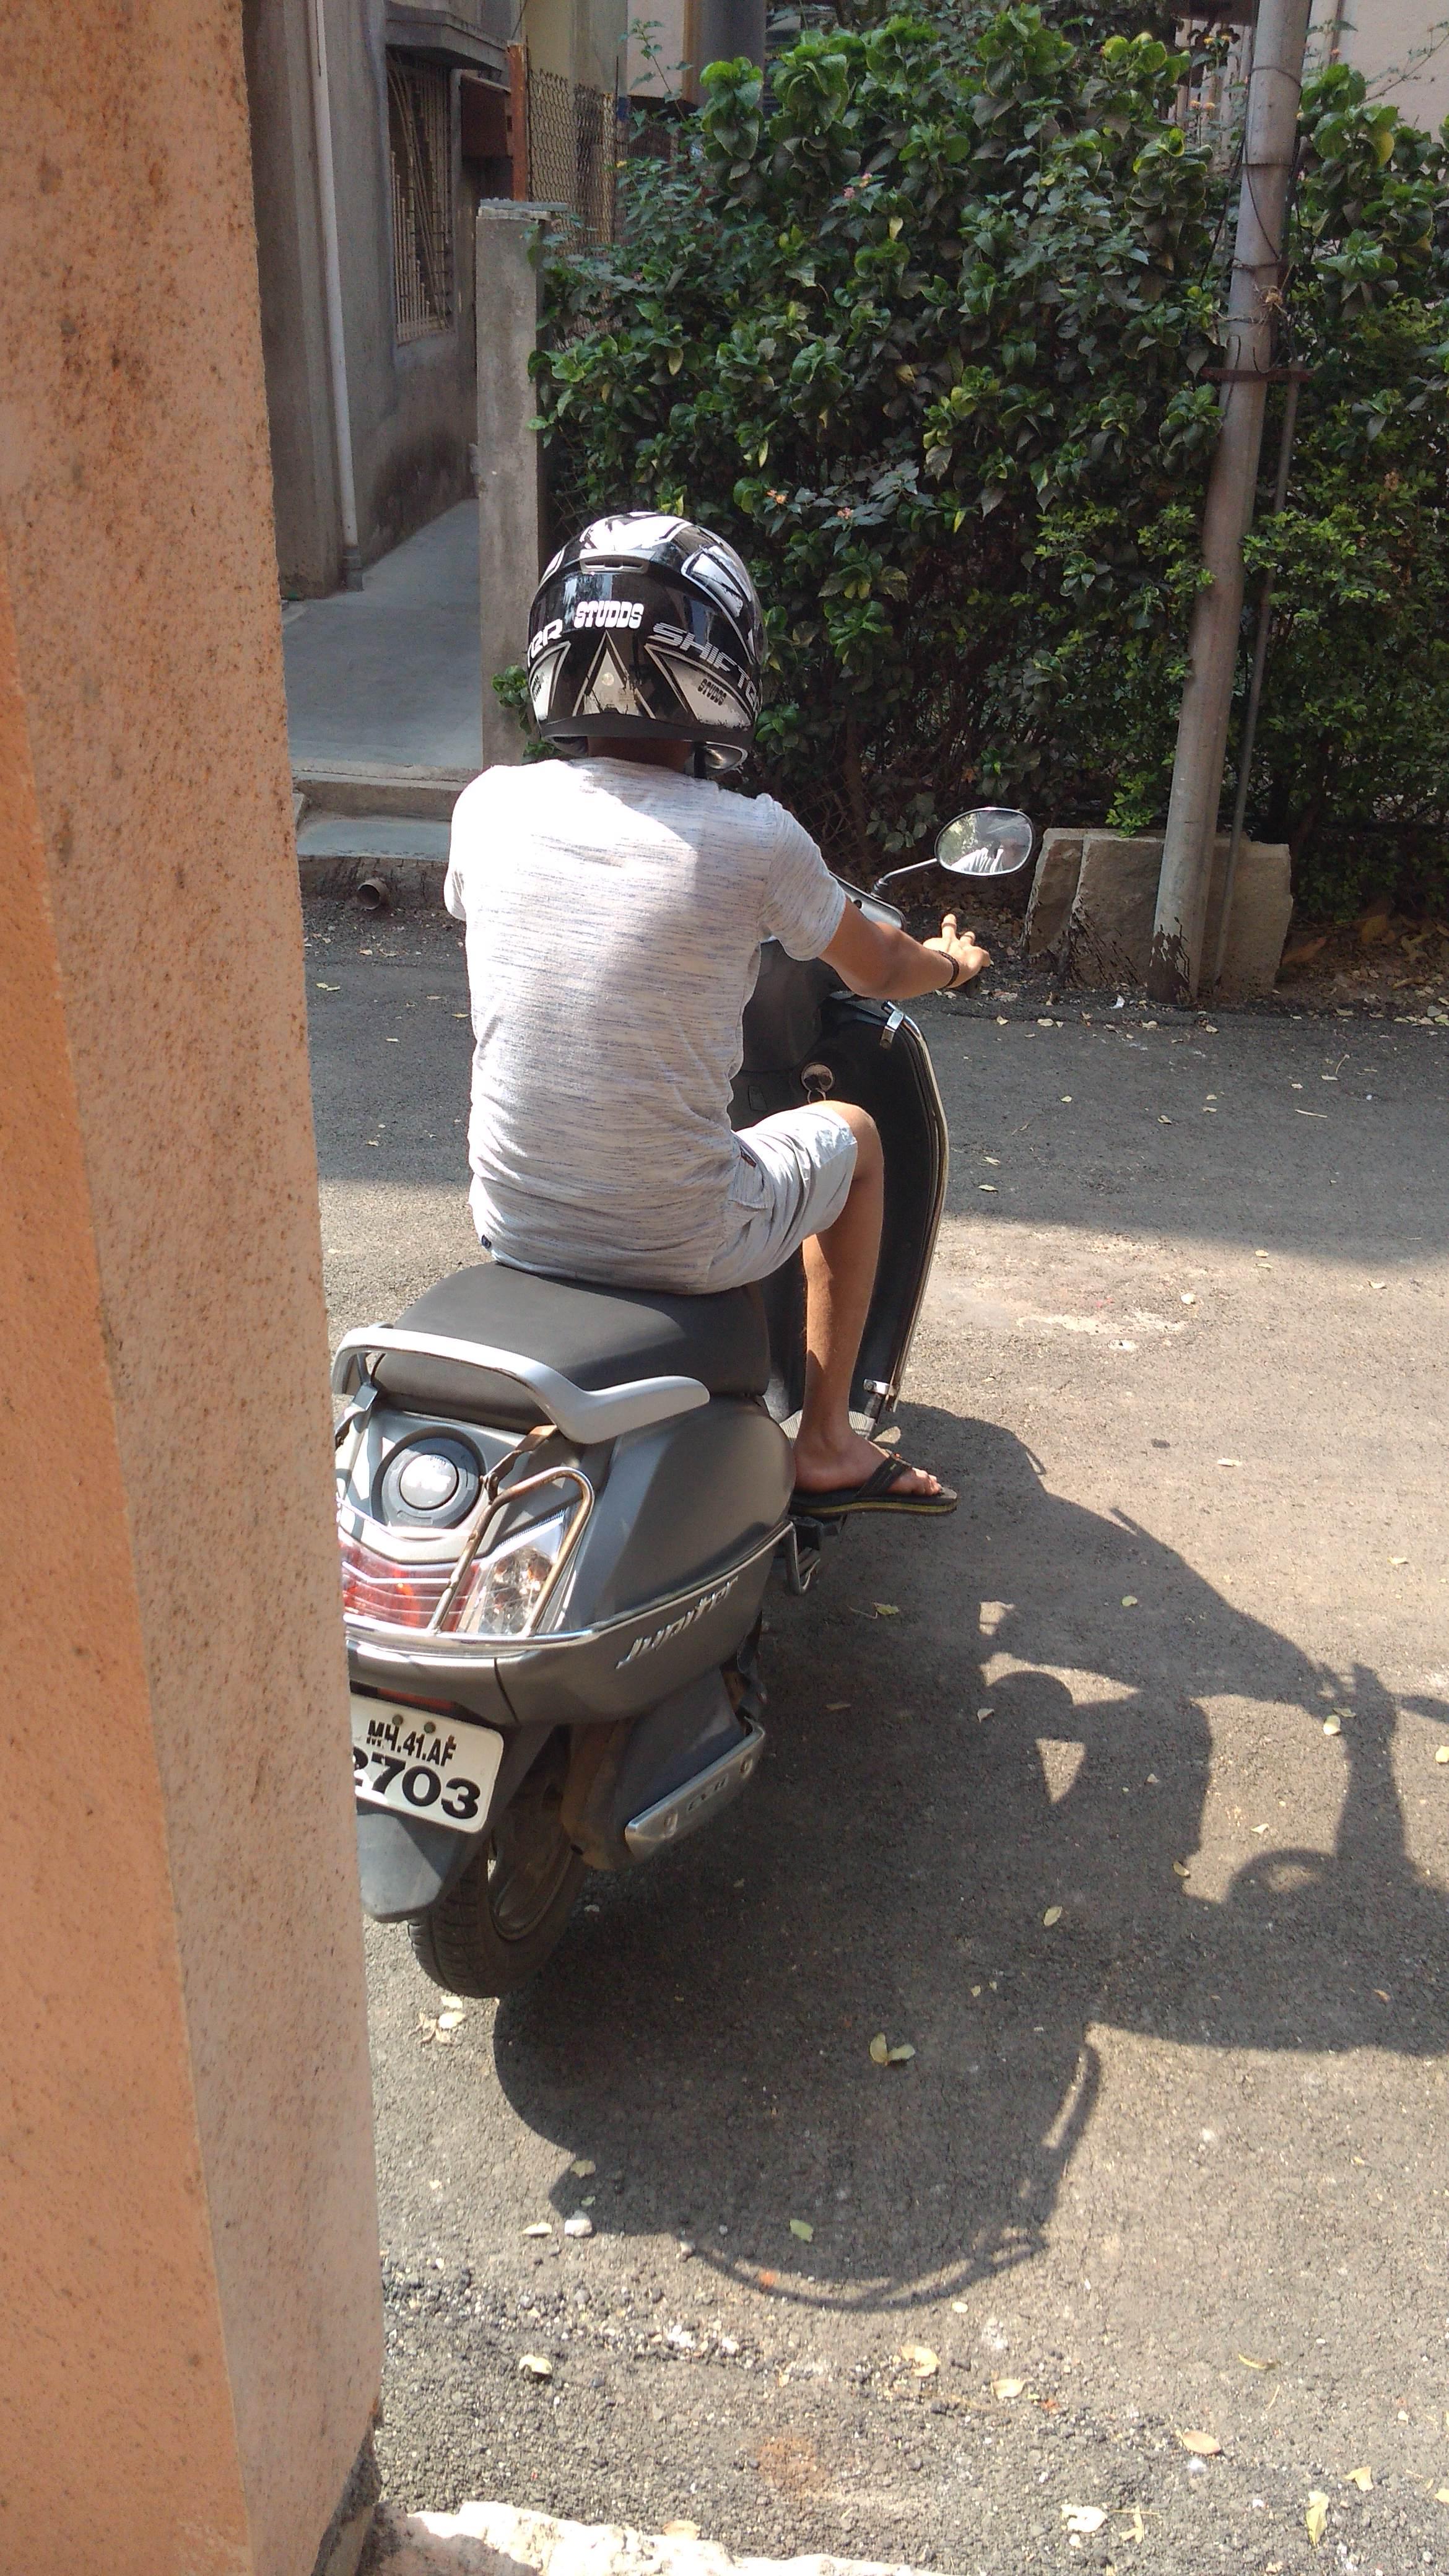helmet: (364, 446, 1026, 1403)
